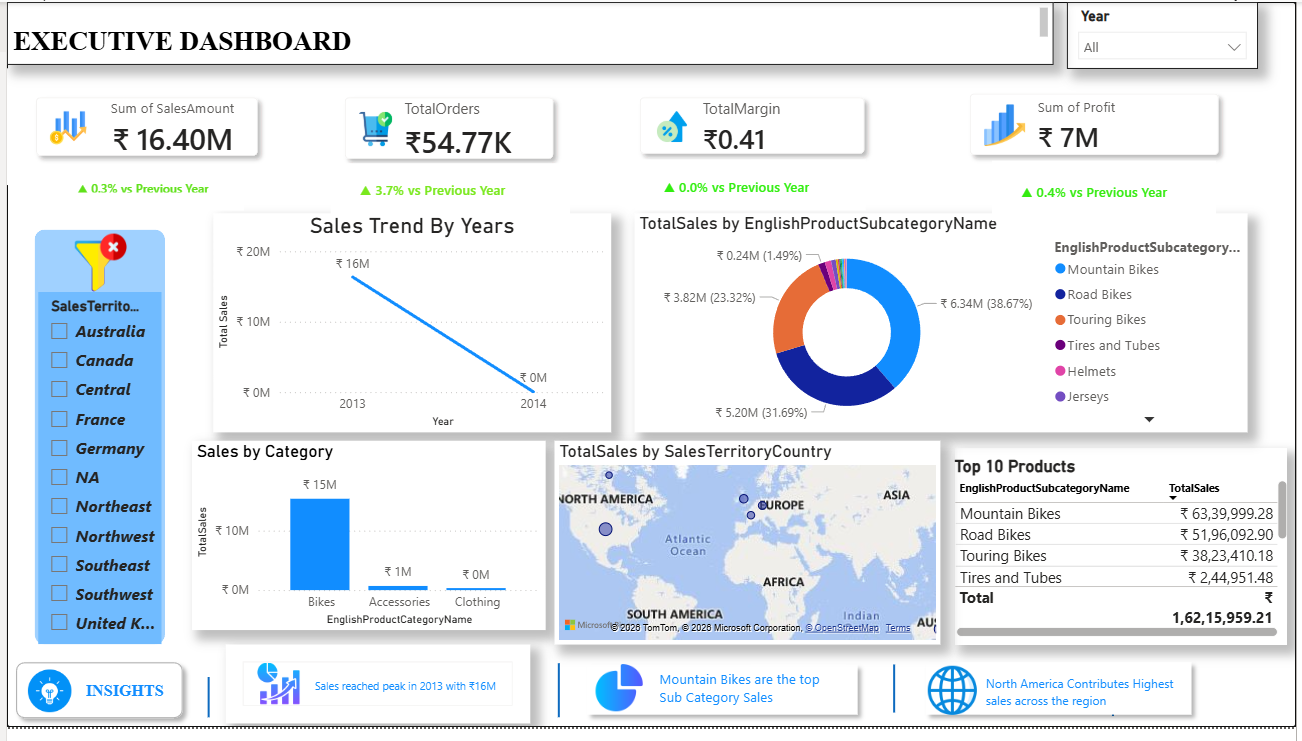

Layout of this report page (visuals, bound fields, positions):
{"tool":"powerbi","page":{"name":"Excecutive Dashoboard","canvas":[1280,720],"ordinal":0},"visuals":[{"type":"cardVisual","fields":{"Data":["Sum(Sheet1.SalesAmount)"]},"box":[0,66,278.8,116.2],"z":0},{"type":"cardVisual","fields":{"Data":["Sum(Sheet1.Profit)"]},"box":[926.9,62.4,305.7,119.8],"z":1000},{"type":"cardVisual","fields":{"Data":["Sheet1.TotalOrders"]},"box":[306.9,66,265.4,119.8],"z":2000},{"type":"cardVisual","fields":{"Data":["Sheet1.TotalMargin"]},"box":[599.2,66,281.3,114.9],"z":3000},{"type":"lineChart","title":"Sales Trend By Years","fields":{"Category":["DimDate.Year"],"Y":["Sheet1.TotalSales"]},"box":[204.2,210.3,395,217.7],"z":4000},{"type":"columnChart","title":"Sales by Category","fields":{"Y":["Sheet1.TotalSales"],"Category":["DimProdCategory.EnglishProductCategoryName"]},"box":[183.4,435.3,351,188.3],"z":5000},{"type":"donutChart","fields":{"Category":["DimProdSubCategory.EnglishProductSubcategoryName"],"Y":["Sheet1.TotalSales"]},"box":[623.6,210.3,609,217.7],"z":7000},{"type":"slicer","fields":{"Values":["DimDate.Year"]},"box":[1052.9,0,189.5,66],"z":8000},{"type":"textbox","box":[0,0,1039.4,62.4],"z":9000},{"type":"cardVisual","fields":{"Data":["DimDate.Growth Label"]},"box":[41.6,161.4,194.4,45.2],"z":10000},{"type":"tableEx","title":"Top 10 Products","fields":{"Values":["DimProdSubCategory.EnglishProductSubcategoryName","Sheet1.TotalSales"]},"box":[940.9,443.1,330.2,194.9],"z":11000},{"type":"cardVisual","fields":{"Data":["Sheet1.Orders Growth Label"]},"box":[321.6,160.2,237.2,50.1],"z":12000},{"type":"cardVisual","fields":{"Data":["Sheet1.Margin Growth Label"]},"box":[623.6,156.5,229.9,50.1],"z":13000},{"type":"cardVisual","fields":{"Data":["Sheet1.Profit Growth Label"]},"box":[978.3,157.7,222.6,59.9],"z":14000},{"type":"shape","box":[0,646.9,183.4,73.4],"z":15000},{"type":"shape","box":[857.2,657.9,46.5,47.7],"z":16000},{"type":"shape","box":[503.8,656.7,88,53.8],"z":17000},{"type":"shape","box":[102.7,670.1,194.4,40.4],"z":18000},{"type":"image","box":[11,662.8,62.4,42.8],"z":19000},{"type":"shape","box":[1079.8,668.9,36.7,40.4],"z":20000},{"type":"textbox","box":[73.4,670.1,97.8,37.9],"z":21000},{"type":"cardVisual","fields":{"Data":["Sheet1.Sales Insight"]},"box":[217.7,638.3,302,78.3],"z":22000},{"type":"shape","box":[567.4,649.3,286.1,67.3],"z":23000},{"type":"textbox","box":[643.2,657.9,190.8,47.7],"z":24000},{"type":"image","box":[572.3,654.2,70.9,53.8],"z":25000},{"type":"shape","box":[903.7,646.9,281.3,69.7],"z":26000},{"type":"textbox","box":[967.3,661.6,207.9,45.2],"z":27000},{"type":"image","box":[900,659.1,78.3,48.9],"z":28000},{"type":"shape","title":"Rectangle_panel","box":[26.9,226.2,129.6,412.1],"z":29000},{"type":"image","title":"Open_Pane","box":[58.7,236,63.6,52.6],"z":30000},{"type":"slicer","title":"Region_Slicer","fields":{"Values":["DimSalesTerritory.SalesTerritoryRegion"]},"box":[30.6,288.6,122.3,349.7],"z":31000},{"type":"image","title":"Close_Pane","box":[66,228.7,56.3,59.9],"z":32000},{"type":"map","fields":{"Category":["DimSalesTerritory.SalesTerritoryCountry"],"Size":["Sheet1.TotalSales"]},"box":[543.7,435.7,383.6,202.3],"z":32001}]}

Visuals, with their boxes in screenshot pixels (x1, y1, x2, y2), scaled from the page's 1280x720 canvas onto the 1302x741 screenshot:
cardVisual - Sum(Sheet1.SalesAmount): 0:68:284:188
cardVisual - Sum(Sheet1.Profit): 943:64:1254:188
cardVisual - Sheet1.TotalOrders: 312:68:582:191
cardVisual - Sheet1.TotalMargin: 609:68:896:186
"Sales Trend By Years" lineChart: 208:216:609:440
"Sales by Category" columnChart: 187:448:544:642
donutChart - DimProdSubCategory.EnglishProductSubcategoryName x Sheet1.TotalSales: 634:216:1254:440
slicer - DimDate.Year: 1071:0:1264:68
textbox: 0:0:1057:64
cardVisual - DimDate.Growth Label: 42:166:240:213
"Top 10 Products" tableEx: 957:456:1293:657
cardVisual - Sheet1.Orders Growth Label: 327:165:568:216
cardVisual - Sheet1.Margin Growth Label: 634:161:868:213
cardVisual - Sheet1.Profit Growth Label: 995:162:1222:224
shape: 0:666:187:740
shape: 872:677:919:726
shape: 512:676:602:731
shape: 104:690:302:731
image: 11:682:75:726
shape: 1098:688:1136:730
textbox: 75:690:174:729
cardVisual - Sheet1.Sales Insight: 221:657:529:738
shape: 577:668:868:738
textbox: 654:677:848:726
image: 582:673:654:729
shape: 919:666:1205:738
textbox: 984:681:1195:727
image: 915:678:995:729
"Rectangle_panel" shape: 27:233:159:657
"Open_Pane" image: 60:243:124:297
"Region_Slicer" slicer: 31:297:156:657
"Close_Pane" image: 67:235:124:297
map - DimSalesTerritory.SalesTerritoryCountry x Sheet1.TotalSales: 553:448:943:657
